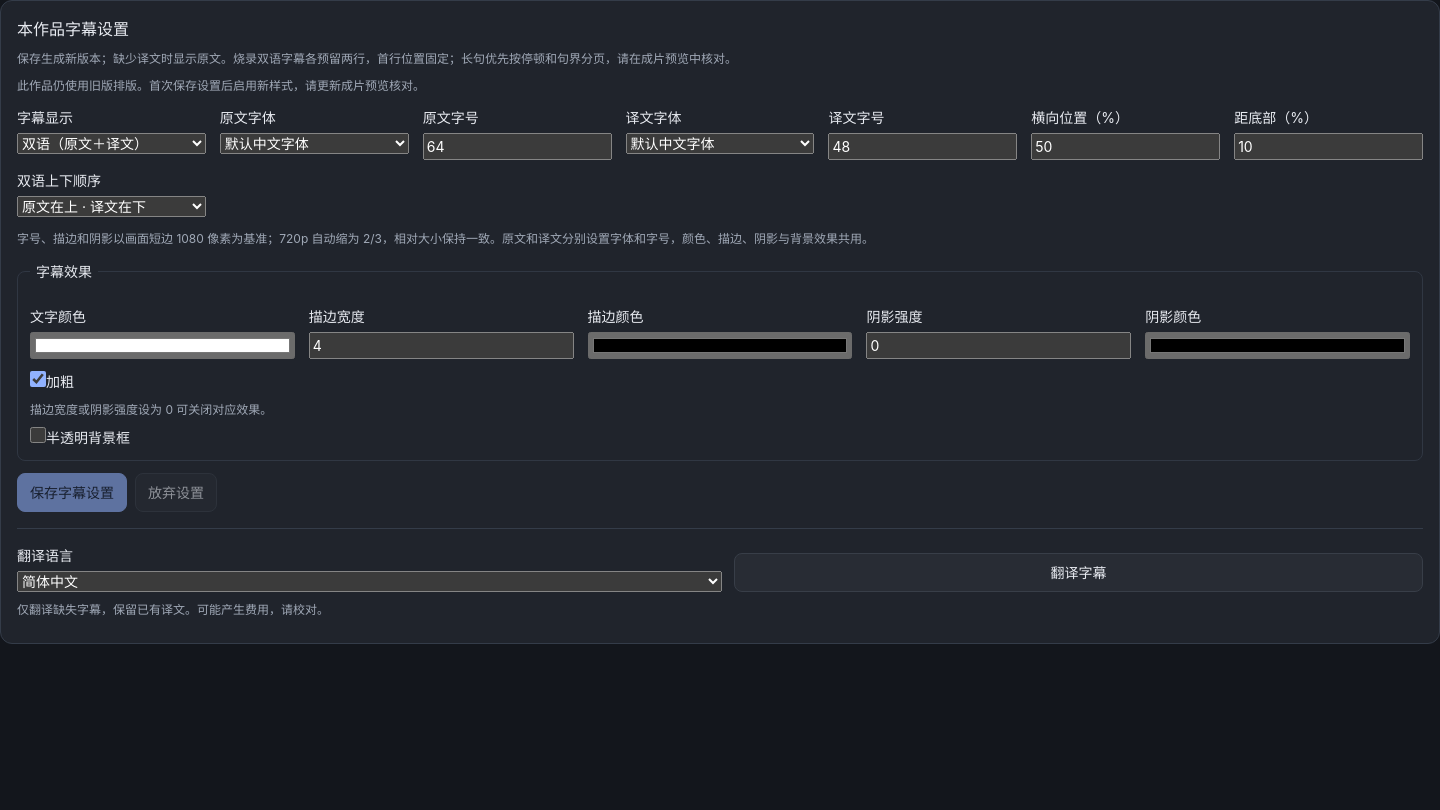
it: 超出范围的字号显示错误并禁止保存
Replace the text in the number field labelled "原文字号" with "2" at (517, 147), box [423,133,612,160]
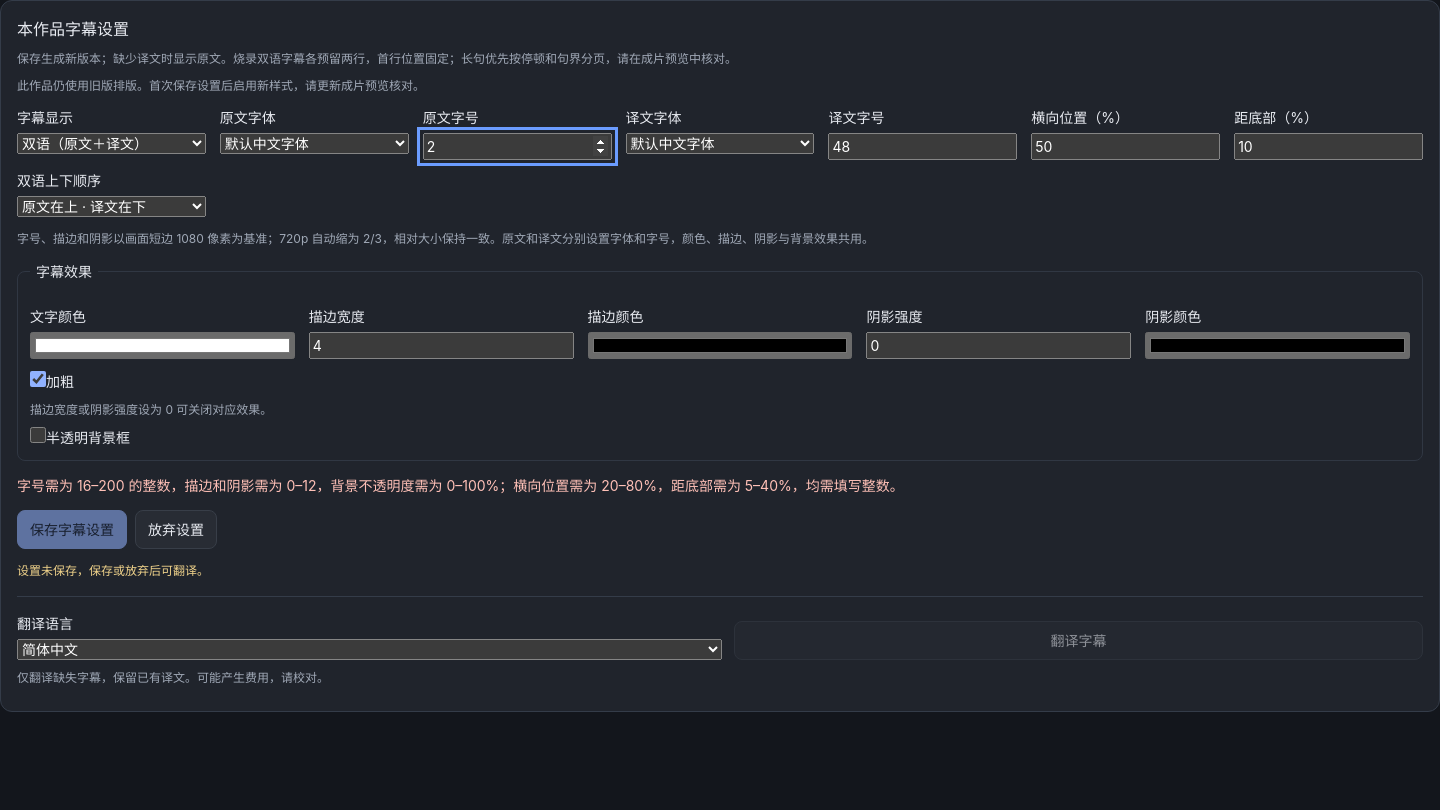
Expected: the button "保存字幕设置" is disabled, [17,510,127,549]
Now the message "字号需为 16–200 的整数，描边和阴影需为 0–12，背景不透明度需为 0–100%；横向位置需为 20–80%，距底部需为 5–40%，均需填写整数。" is shown, box [17,477,904,494]
Click the button "放弃设置" at (176, 529), box [135,510,217,549]
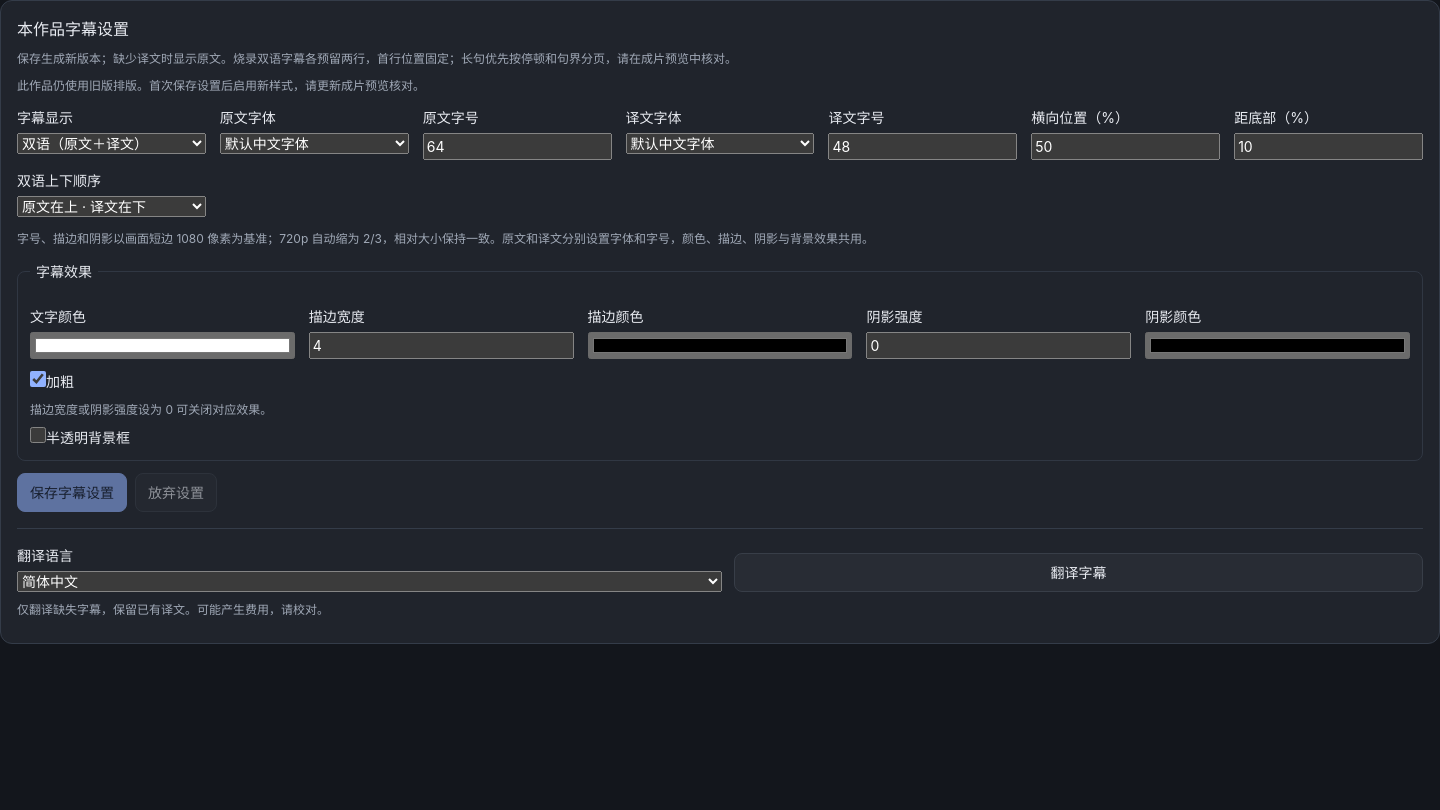
Now the message "字号需为 16–200 的整数，描边和阴影需为 0–12，背景不透明度需为 0–100%；横向位置需为 20–80%，距底部需为 5–40%，均需填写整数。" is gone
